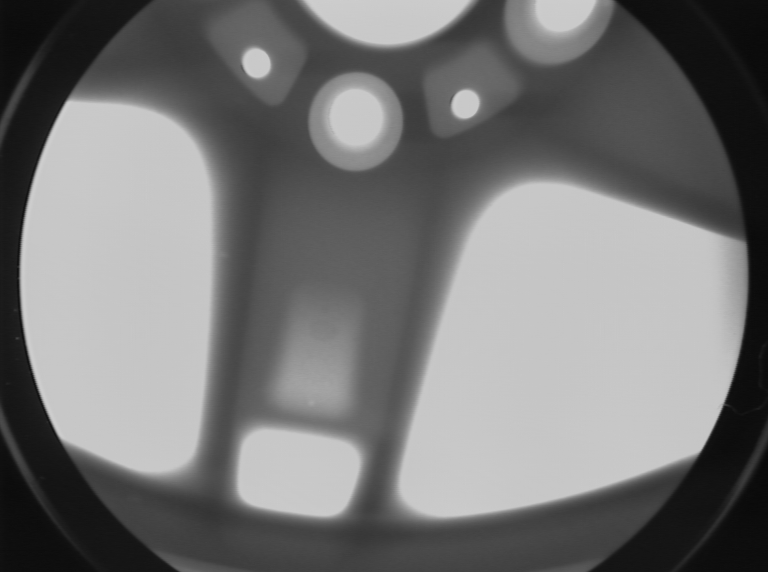defect: (302, 396, 322, 413)
